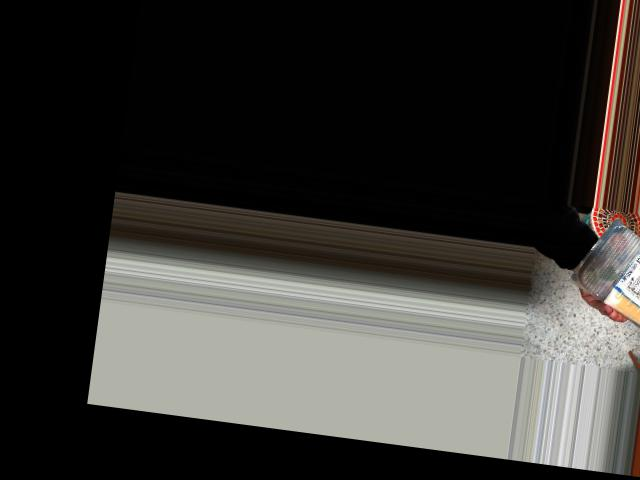cheese: (574, 219, 640, 322)
